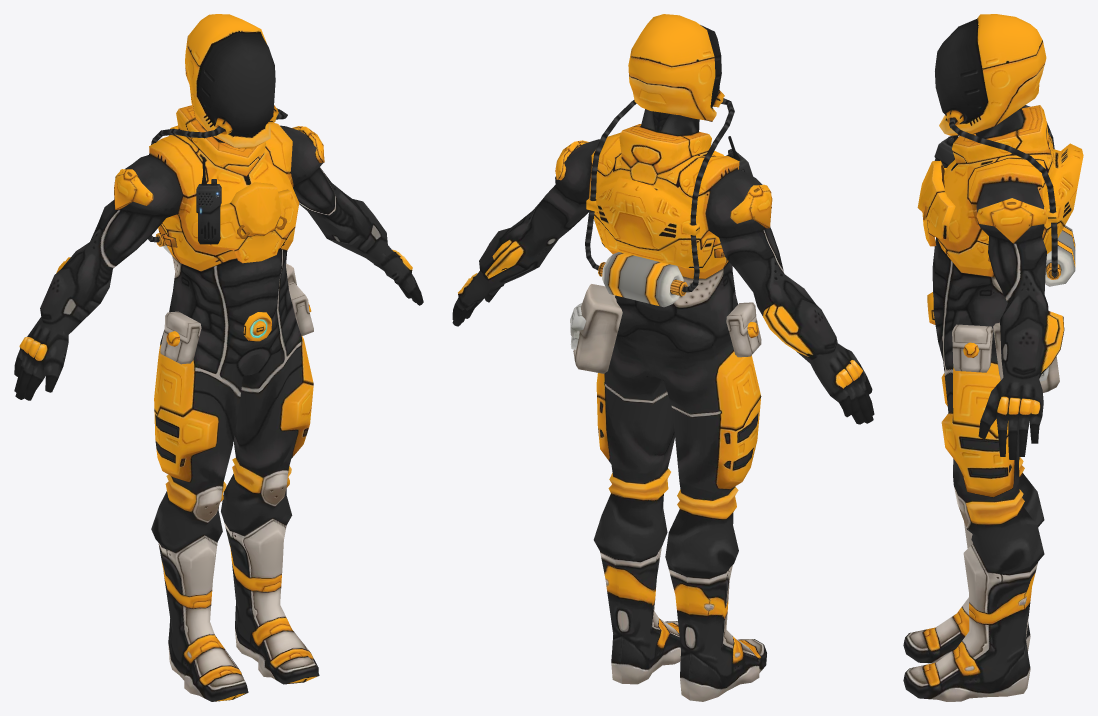
Rendered from space_explorer1.glb.
3 renders of one model, left to right at view 1: azimuth 30°, elevation 25°; view 2: azimuth 150°, elevation 25°; view 3: azimuth 270°, elevation 25°, orthographic. The views are drawn at different scales.
Visible parts, largest first — view 1: body_0; view 2: body_0; view 3: body_0.
Part boxes in pixels (left/top/right/bottom): body_0: left=14, top=14, right=423, bottom=701; body_0: left=452, top=14, right=874, bottom=701; body_0: left=903, top=14, right=1083, bottom=701.
Bounding box in the file's own units: 1.15 × 1.75 × 0.4364.
Materials: 1 (1 with a texture image).
